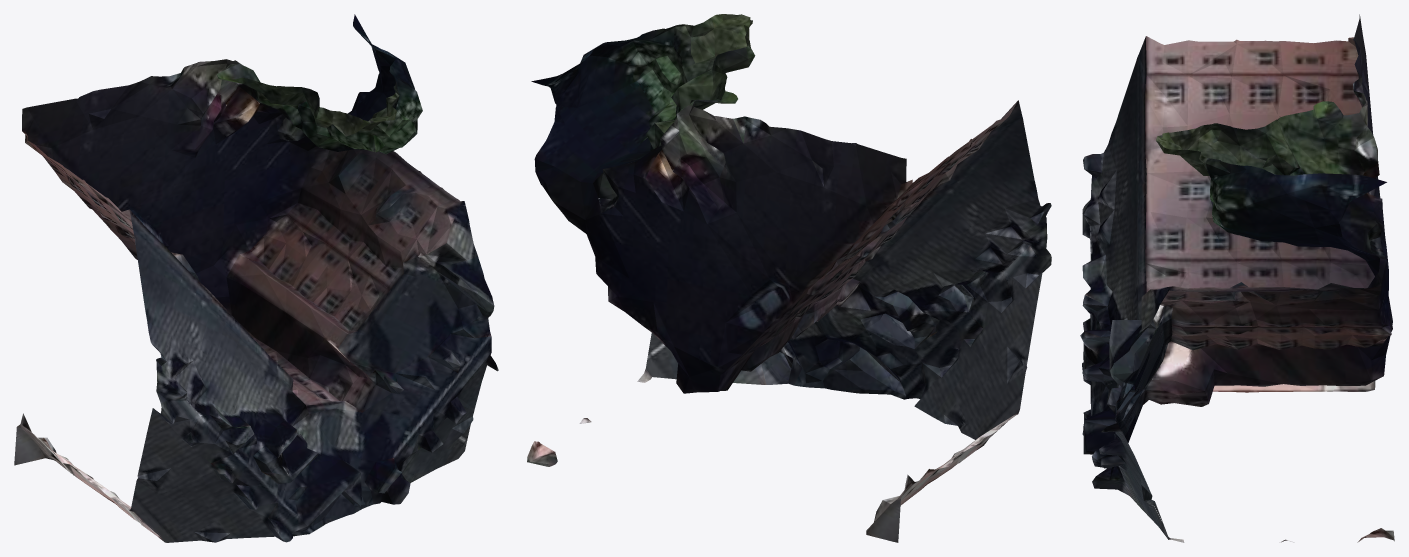
The model's file is Tile_+031_+022_L19_000212.obj.
3 renders of one model, left to right at view 1: azimuth 30°, elevation 25°; view 2: azimuth 150°, elevation 25°; view 3: azimuth 270°, elevation 25°, orthographic. The views are drawn at different scales.
Size of the model in its own units: 31.75 by 31.75 by 25.08.
Materials: 1 (1 with a texture image).
